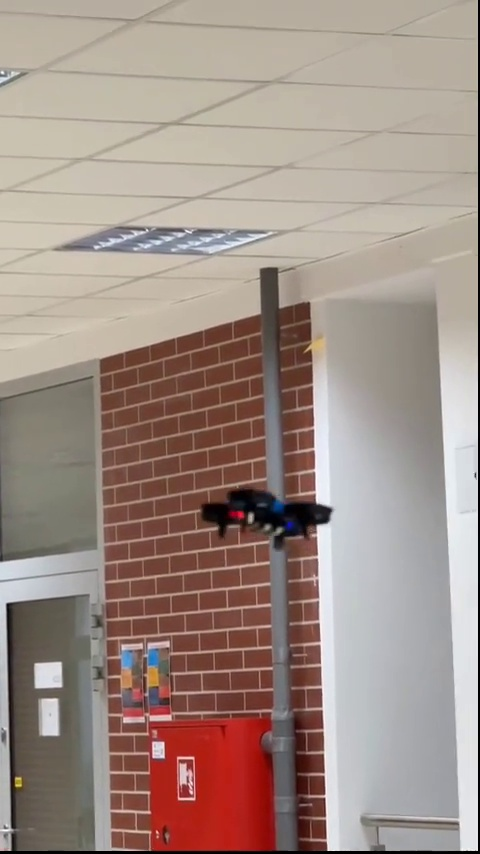drone: (204, 488, 332, 544)
